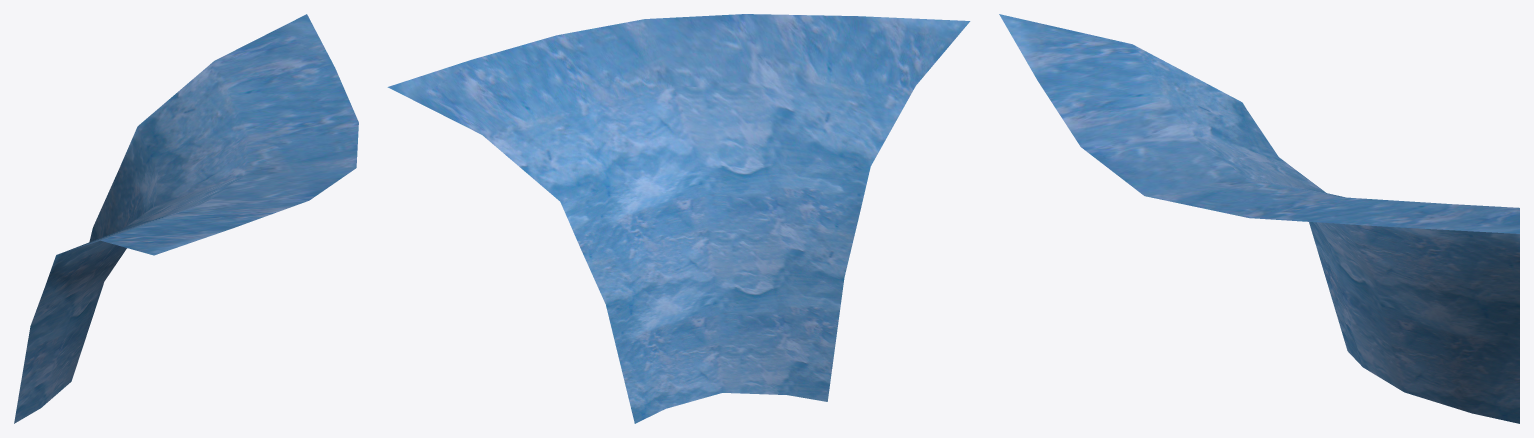
The model's file is IceE5.fbx.
3 renders of one model, left to right at view 1: azimuth 30°, elevation 25°; view 2: azimuth 150°, elevation 25°; view 3: azimuth 270°, elevation 25°, orthographic. The views are drawn at different scales.
Parts seen in each view (by area): view 1: IceE5; view 2: IceE5; view 3: IceE5.
Boxes of the visible parts, left/top/right/bottom form: IceE5: left=14, top=14, right=358, bottom=423; IceE5: left=387, top=14, right=970, bottom=423; IceE5: left=999, top=14, right=1519, bottom=423.
Size of the model in its own units: 1931 by 1380 by 1932.
